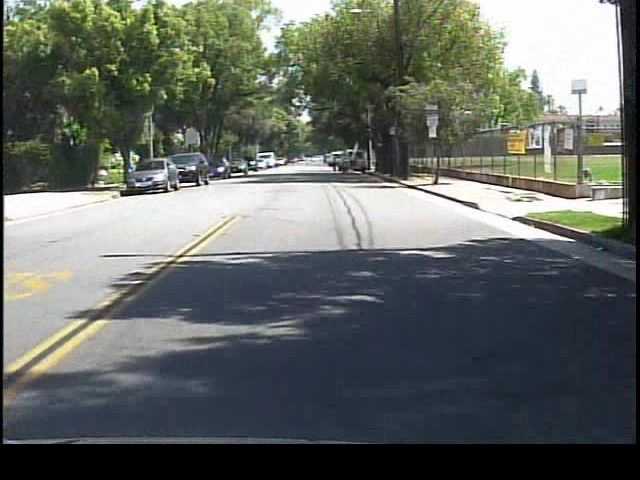person: (326, 148, 342, 174)
